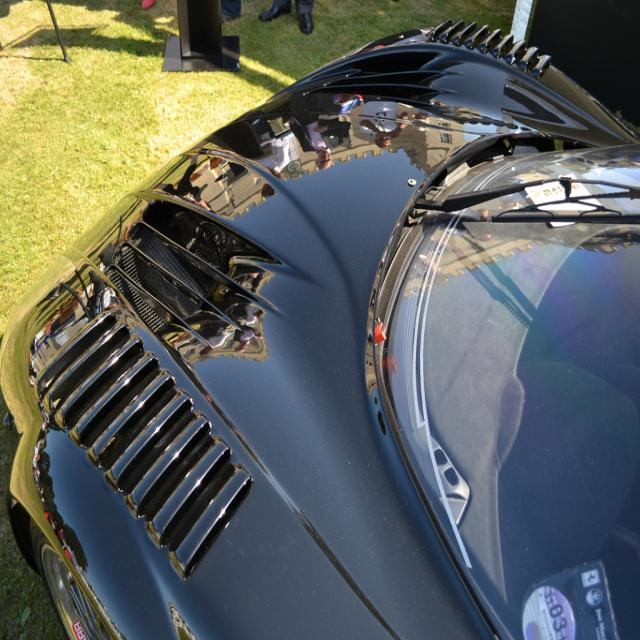Passenger Car: (2, 3, 637, 640)
